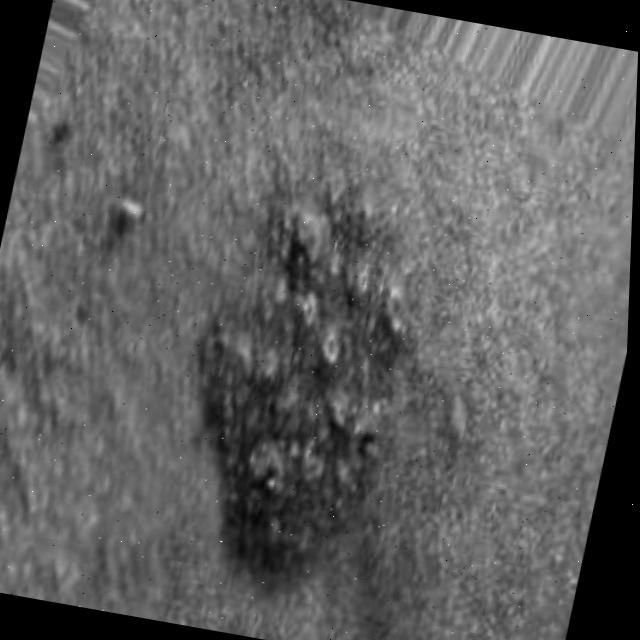Shingles: (156, 190, 457, 609)
